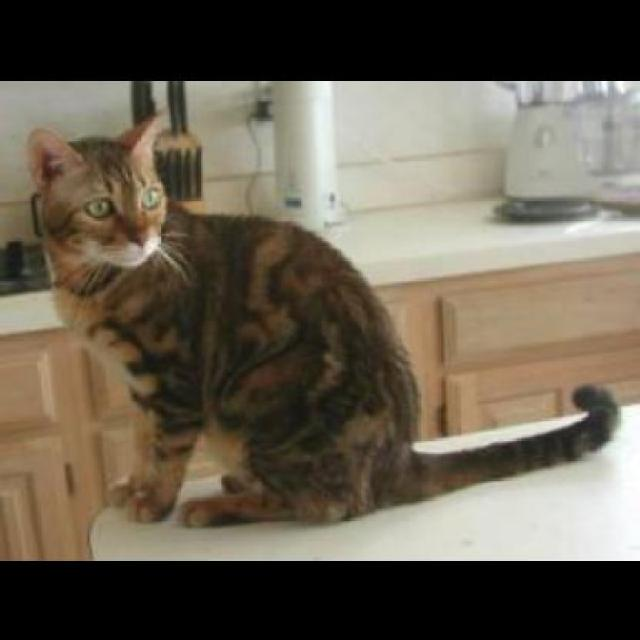unauthorized: (24, 111, 618, 529)
